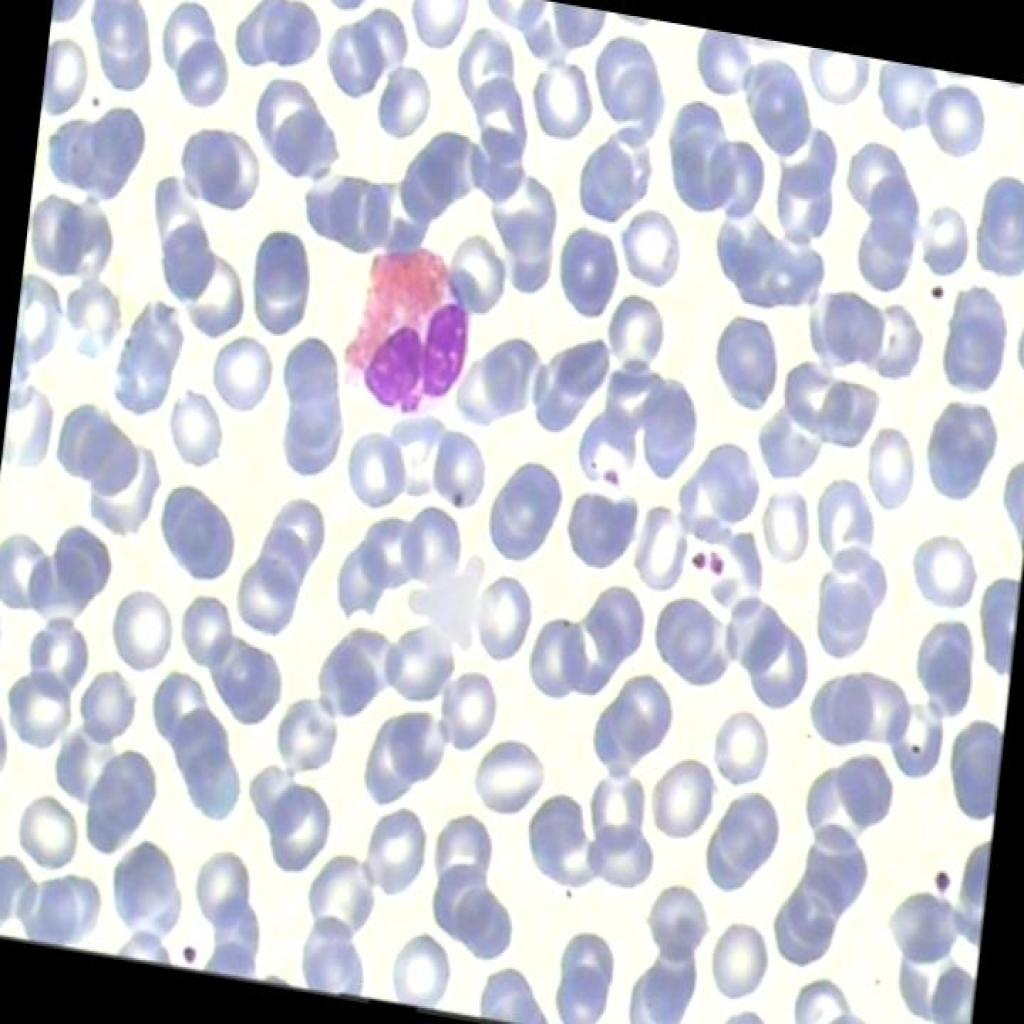Eosinofil: (330, 242, 484, 442), (698, 537, 734, 587), (174, 937, 216, 976), (600, 450, 629, 501), (677, 539, 711, 576)
Platelet: (919, 855, 963, 905), (438, 482, 475, 533)
